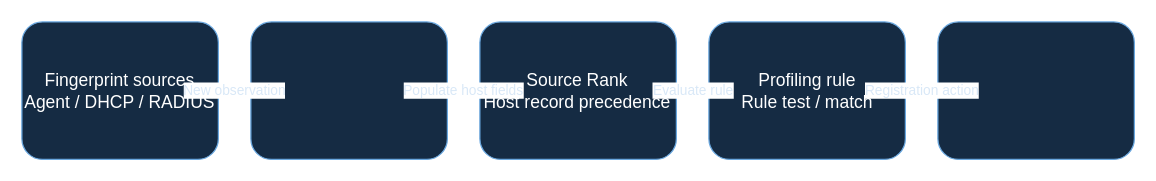
The diagram is 1156 pixels wide and 181 high, and some of its shapes have lost their labels. Here are the shapes that lost their labels. From the top down, the centre of each, then its label:
At point (348, 90): "Per-MAC history Multiple records".
At point (1035, 90): "Host state Registered / rogue".
